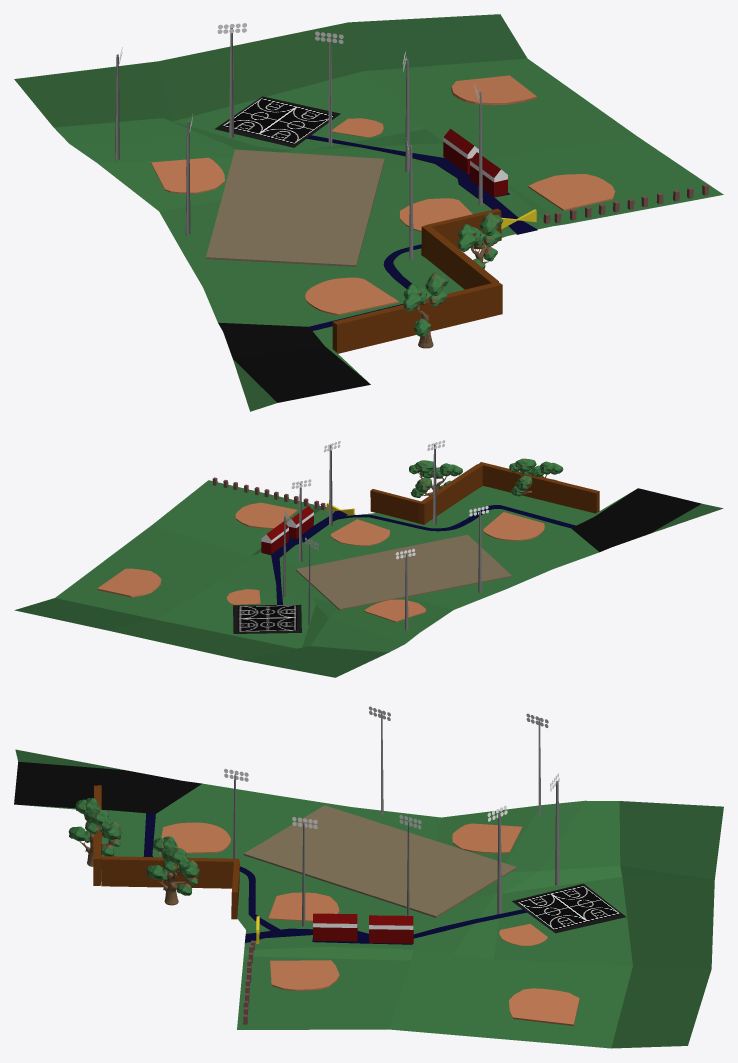
File: intcapefield.glb
3 renders of one model, top to bottom at view 1: azimuth 30°, elevation 25°; view 2: azimuth 150°, elevation 25°; view 3: azimuth 270°, elevation 25°, orthographic. The views are drawn at different scales.
Parts seen in each view (by area): view 1: Cape Field, capefield_lights, tree_Cube.002, tree_Cube.001; view 2: Cape Field, capefield_lights, tree_Cube.001, tree_Cube.002; view 3: Cape Field, capefield_lights, tree_Cube.001, tree_Cube.002.
Boxes of the visible parts, x1,y1,x2,y2 form: Cape Field: (14, 14, 723, 411); capefield_lights: (115, 23, 482, 259); tree_Cube.002: (403, 272, 448, 348); tree_Cube.001: (457, 212, 503, 269); Cape Field: (14, 462, 723, 677); capefield_lights: (283, 440, 488, 630); tree_Cube.001: (409, 460, 462, 497); tree_Cube.002: (509, 458, 563, 496); Cape Field: (14, 749, 723, 1048); capefield_lights: (224, 706, 559, 926); tree_Cube.001: (146, 836, 199, 905); tree_Cube.002: (68, 798, 121, 866).
Size of the model in its own units: 0.3795 by 0.0855 by 0.4133.
Materials: 15 (1 with a texture image).
